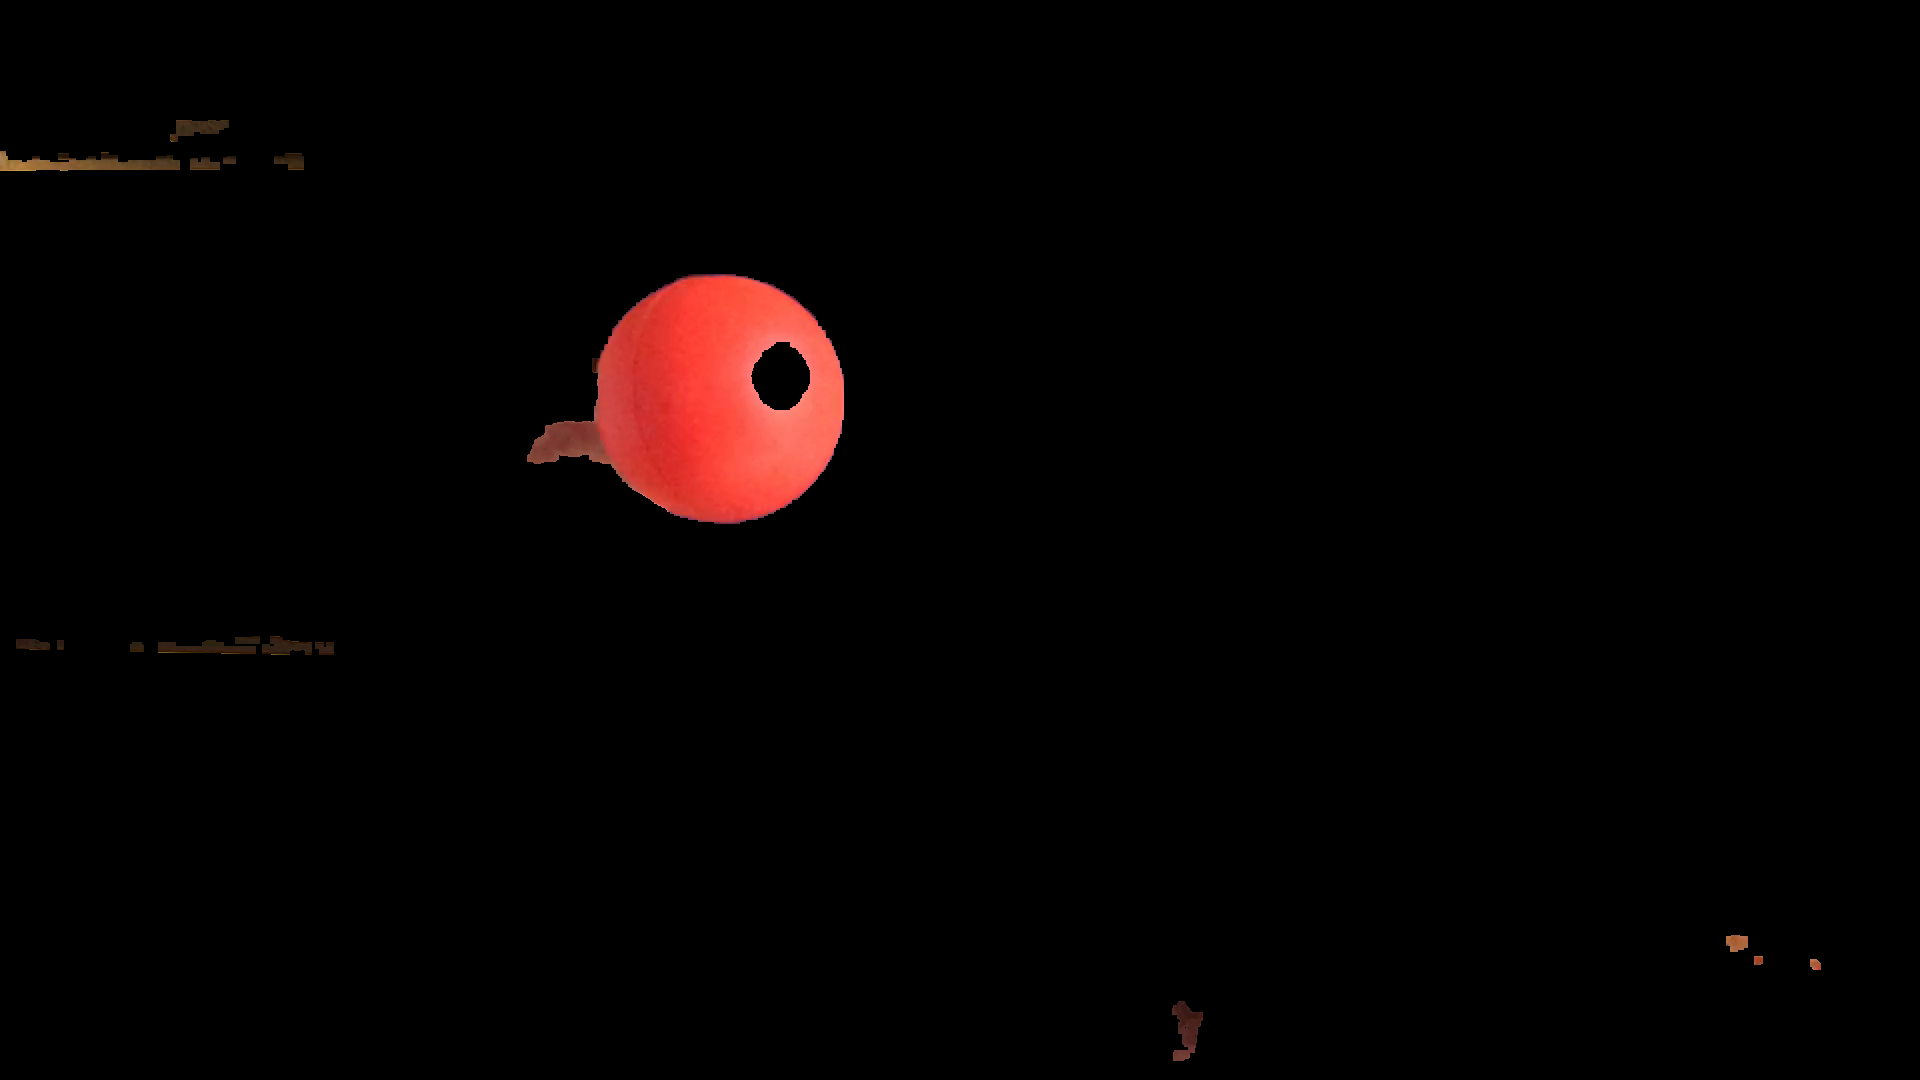Ball: (597, 272, 851, 526)
